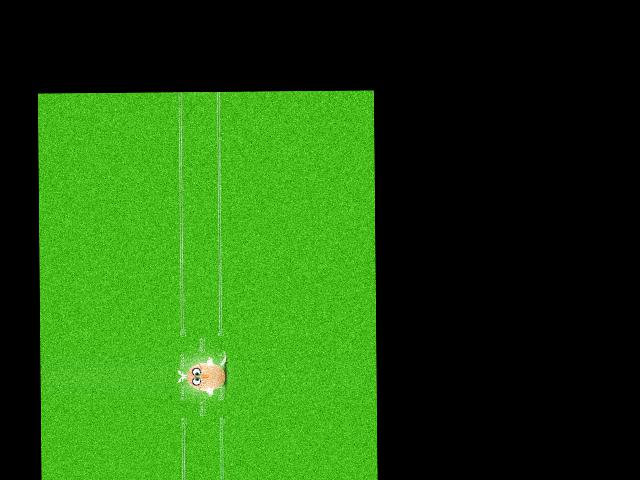egg: (186, 362, 226, 390)
